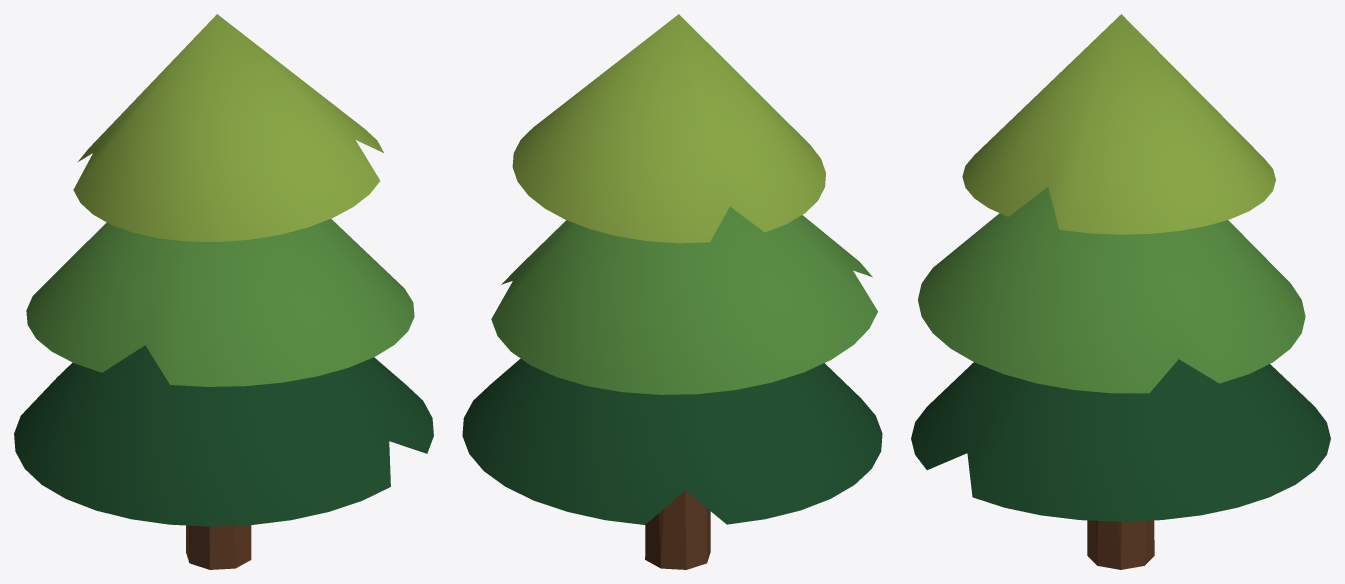
The model's file is TREEMODELv001.fbx.
The picture shows the model from 3 angles, left to right: view 1: azimuth 30°, elevation 25°; view 2: azimuth 150°, elevation 25°; view 3: azimuth 270°, elevation 25°; orthographic projection.
Parts seen in each view (by area): view 1: Cone, Cone.001, Cone.002, Cylinder; view 2: Cone.001, Cone, Cone.002, Cylinder; view 3: Cone.001, Cone, Cone.002, Cylinder.
Boxes of the visible parts, x1=… form: Cone: x1=14, y1=345, x2=433, y2=526; Cone.001: x1=26, y1=219, x2=414, y2=386; Cone.002: x1=73, y1=14, x2=383, y2=241; Cylinder: x1=186, y1=525, x2=251, y2=569; Cone.001: x1=491, y1=206, x2=877, y2=394; Cone: x1=462, y1=358, x2=882, y2=524; Cone.002: x1=512, y1=14, x2=825, y2=243; Cylinder: x1=645, y1=490, x2=710, y2=569; Cone.001: x1=918, y1=187, x2=1305, y2=393; Cone: x1=911, y1=359, x2=1330, y2=521; Cone.002: x1=962, y1=14, x2=1275, y2=234; Cylinder: x1=1087, y1=520, x2=1154, y2=569.
Bounding box in the file's own units: 200 × 284 × 200.
